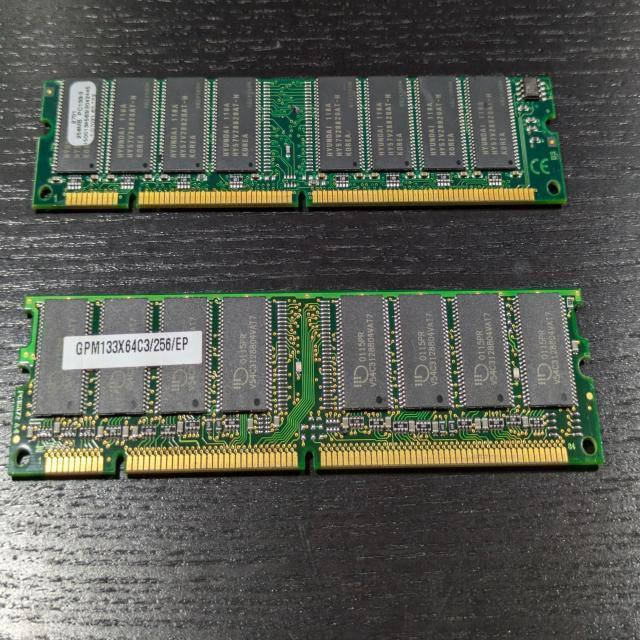RAM: (8, 288, 606, 479), (32, 75, 567, 211)
